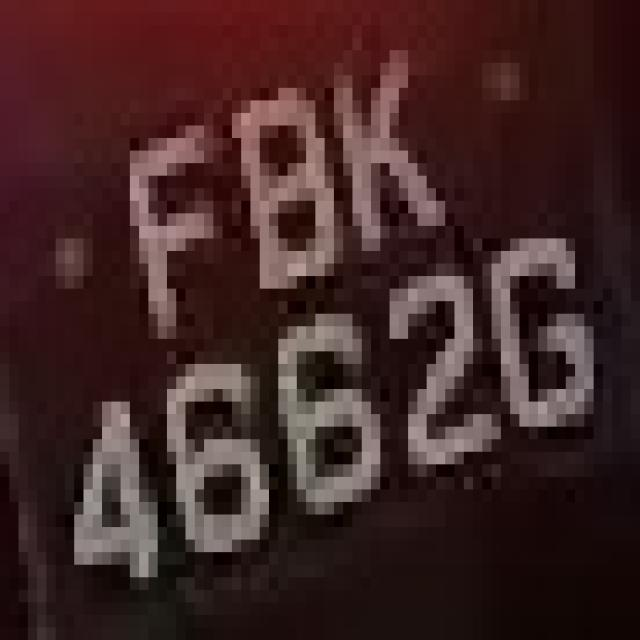2: (362, 264, 510, 514)
4: (9, 377, 167, 602)
6: (251, 301, 408, 515), (148, 339, 269, 565)
B: (213, 62, 334, 314)
F: (102, 113, 223, 351)
G: (464, 201, 612, 452)
K: (316, 50, 454, 289)
